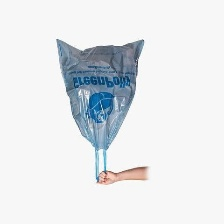plastic_bag: (48, 30, 154, 186)
